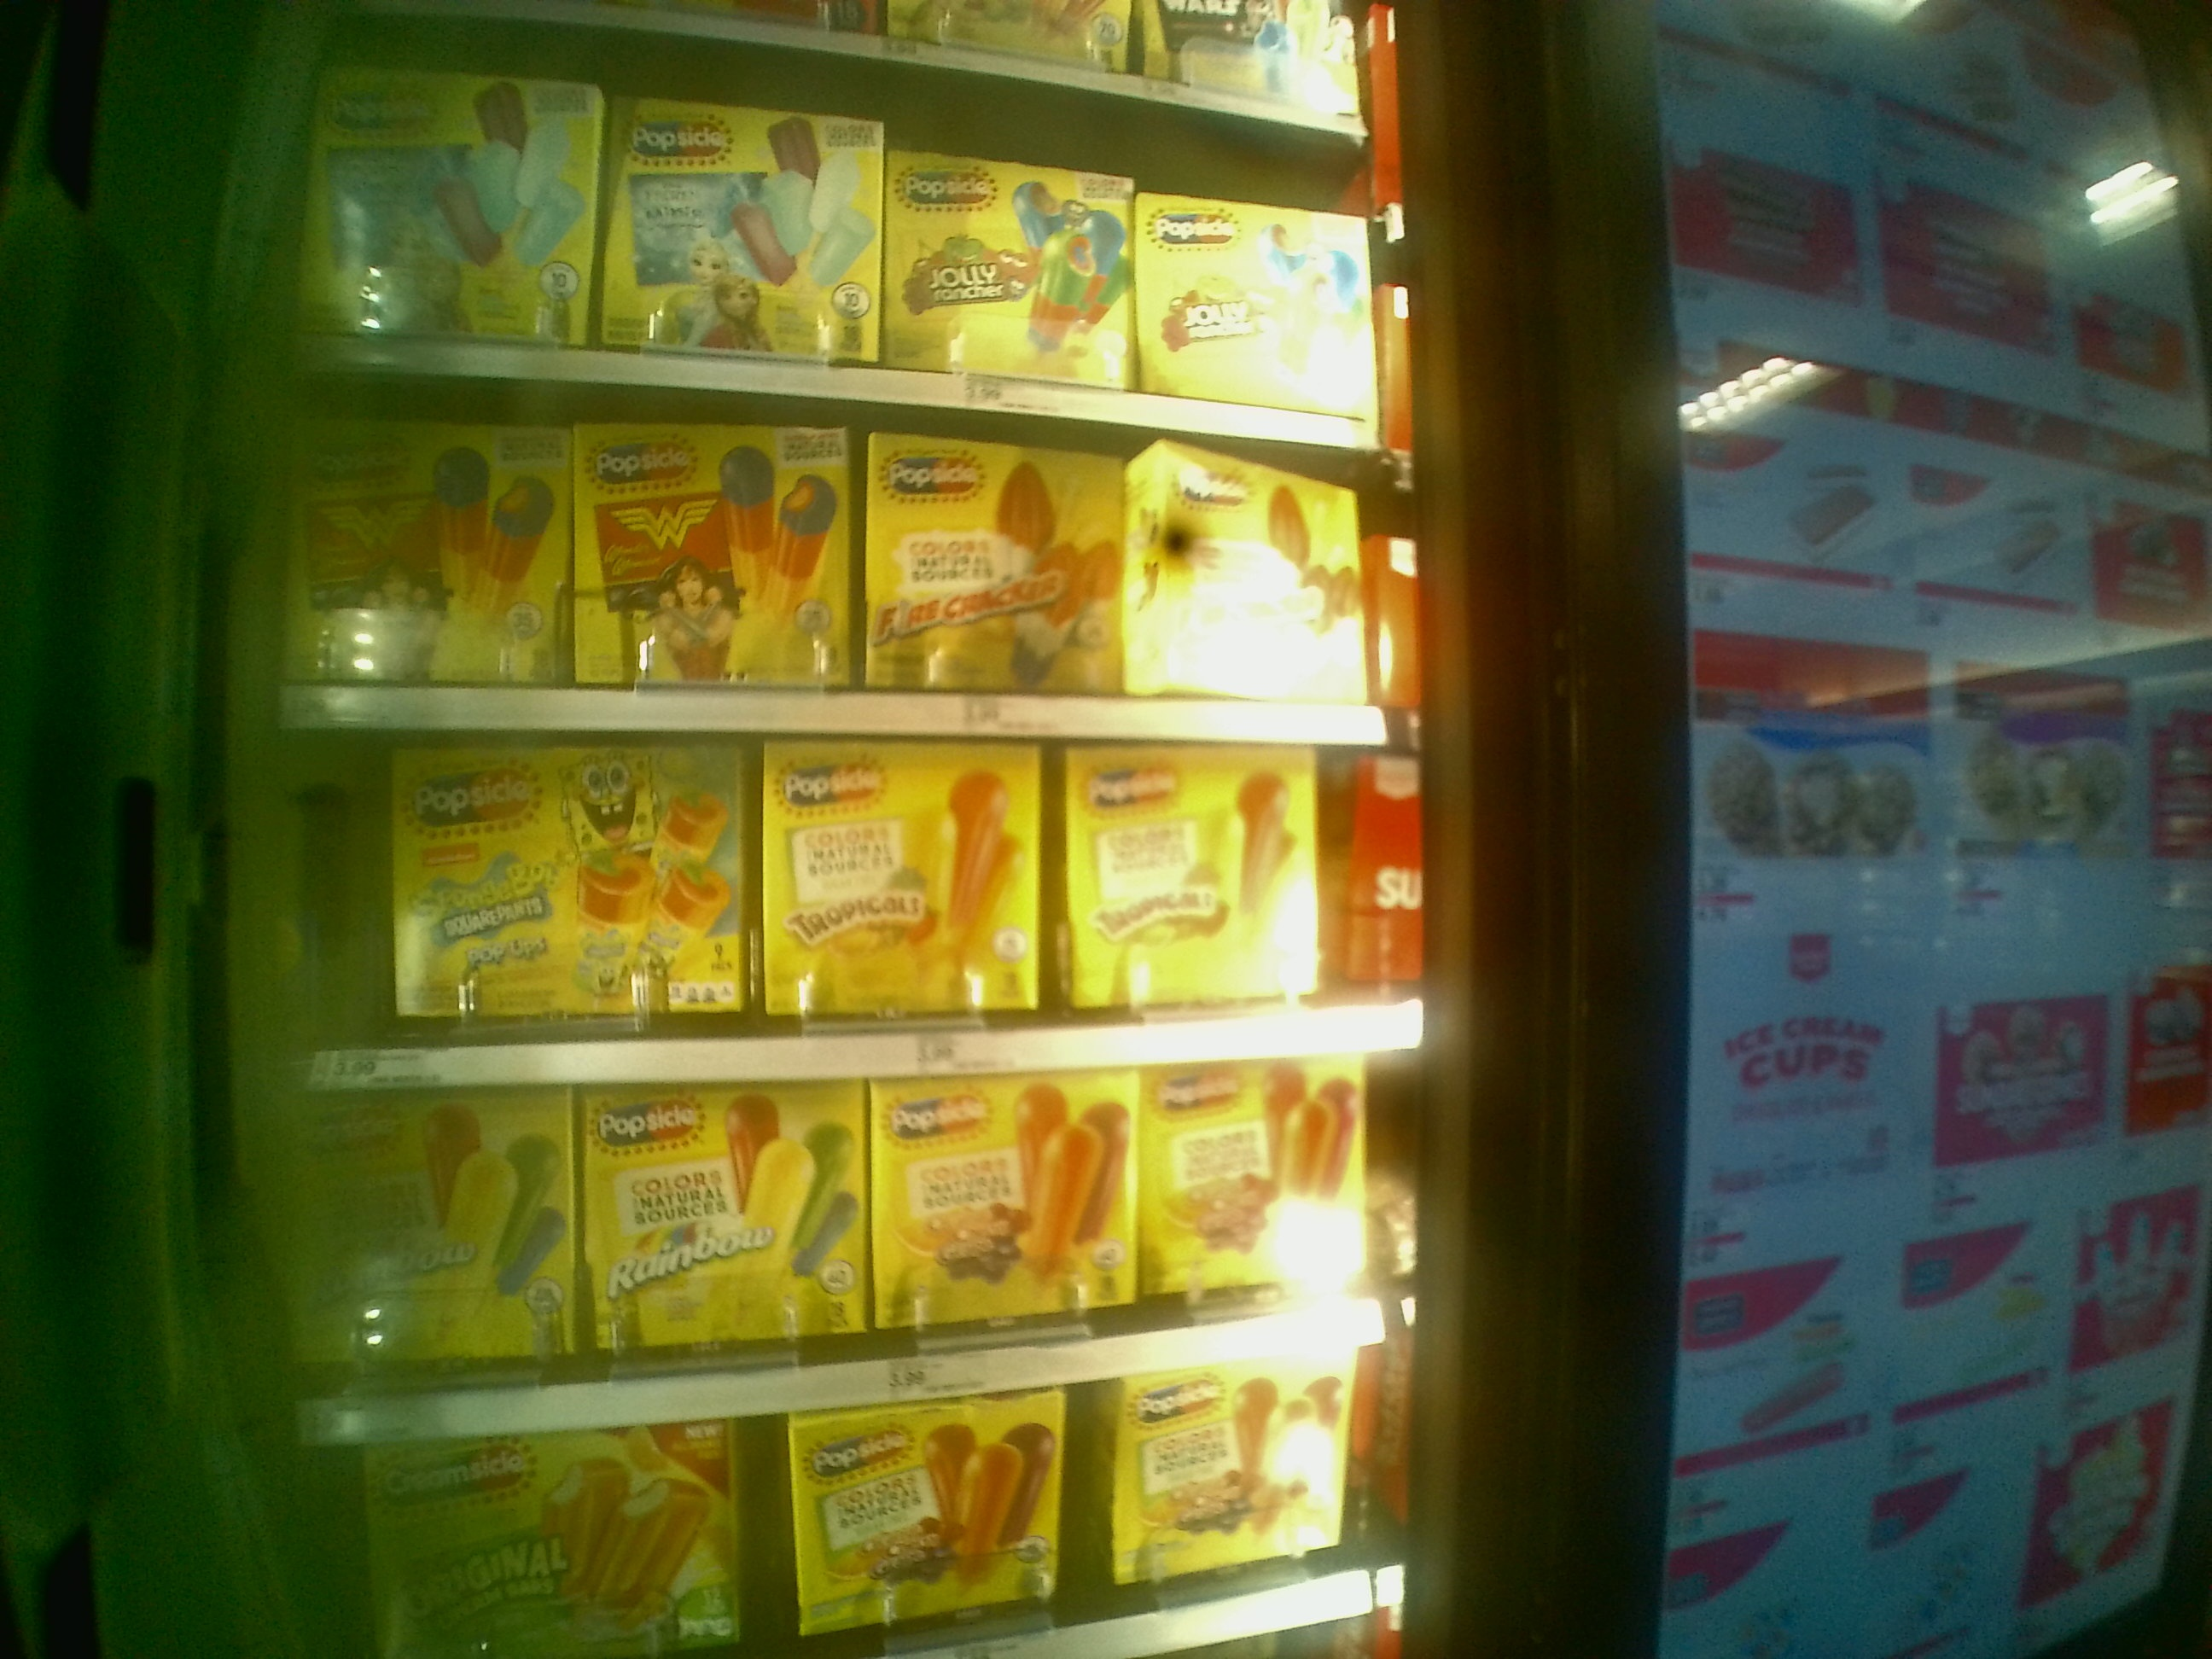frozen-food-shelf: (280, 742, 1413, 1086), (272, 403, 1400, 744)
